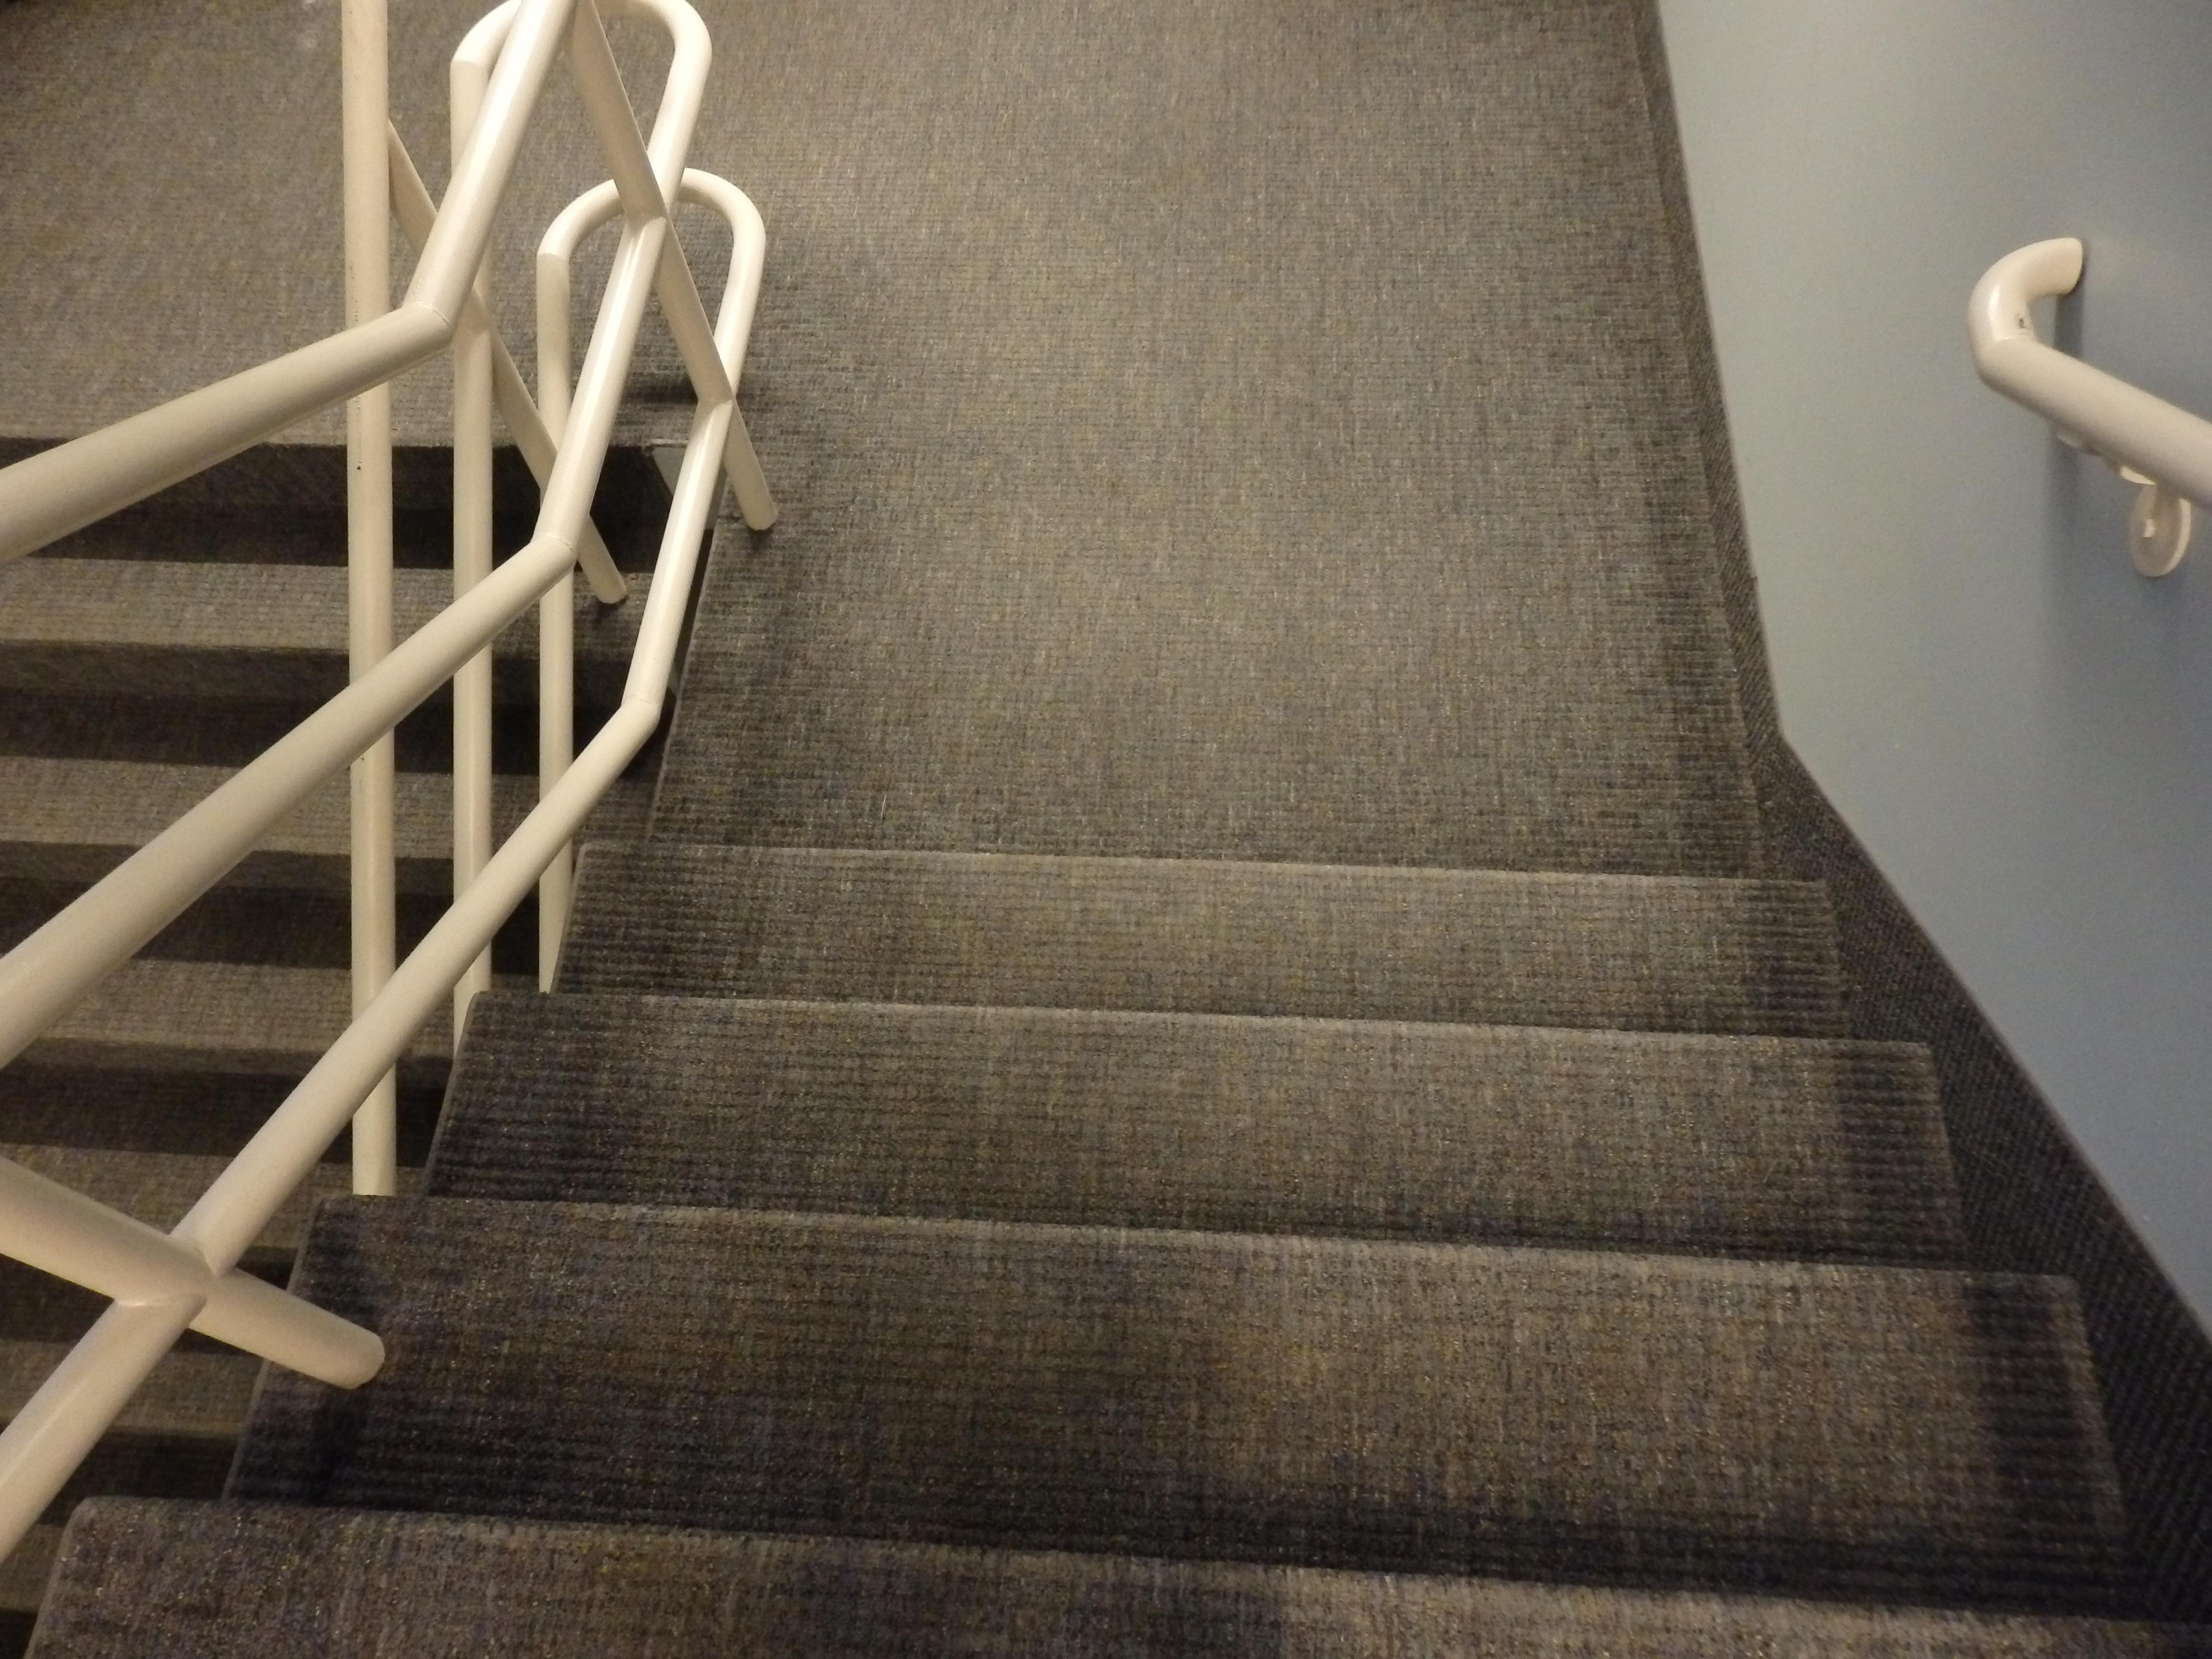stairs_down: (226, 824, 2092, 1642)
